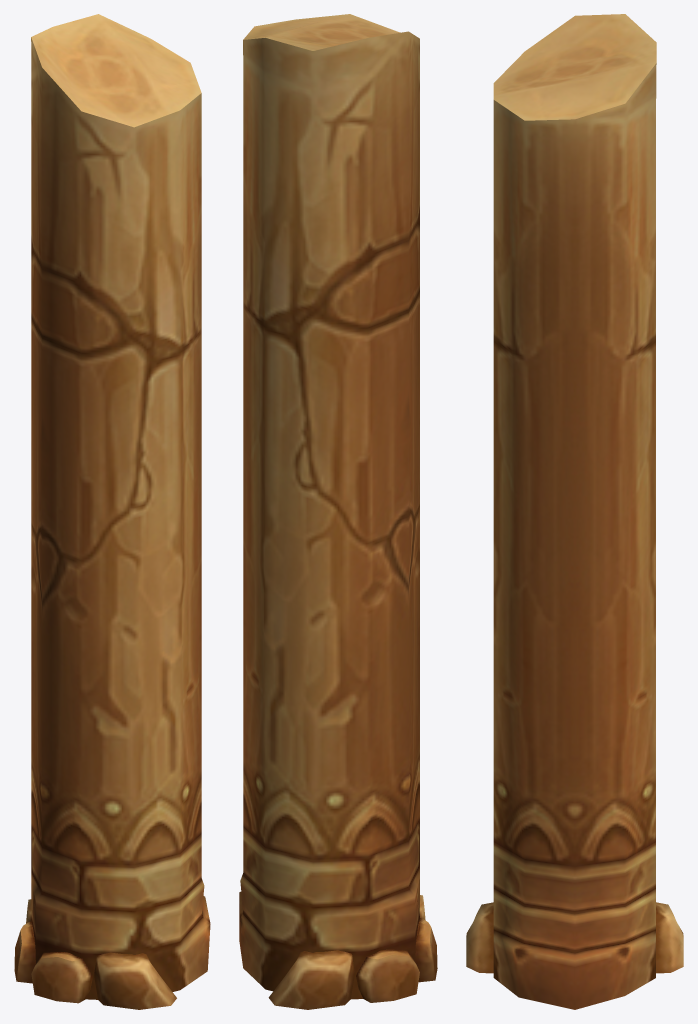
The model's file is Stage_ShaMo_ZhuZi01.FBX.
The picture shows the model from 3 angles, left to right: view 1: azimuth 30°, elevation 25°; view 2: azimuth 150°, elevation 25°; view 3: azimuth 270°, elevation 25°; orthographic projection. The views are drawn at different scales.
Visible parts, largest first — view 1: Stage_ShaMo_ZhuZi01; view 2: Stage_ShaMo_ZhuZi01; view 3: Stage_ShaMo_ZhuZi01.
Boxes of the visible parts, box(x1,y1,x2,y2) form: Stage_ShaMo_ZhuZi01: box(14, 14, 210, 1009); Stage_ShaMo_ZhuZi01: box(239, 14, 437, 1009); Stage_ShaMo_ZhuZi01: box(466, 14, 683, 1009).
Bounding box in the file's own units: 141 × 692 × 147.
